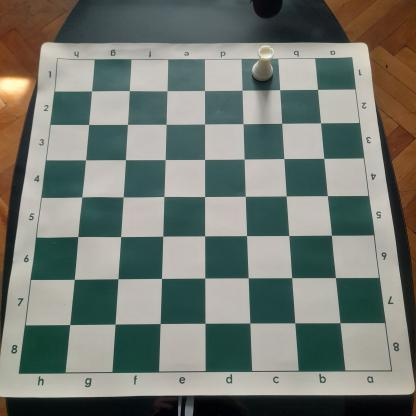white-rook: (251, 45, 276, 83)
